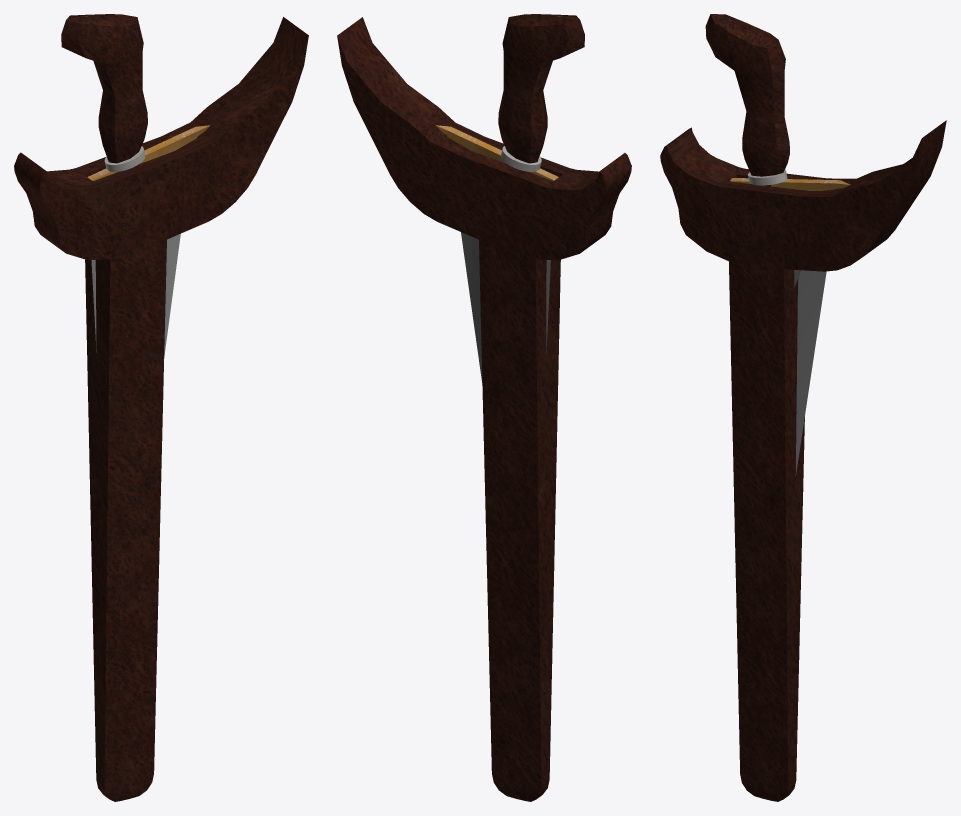
Rendered from Keris & Sarung.fbx.
3 views of the same model, side by side, from view 1: azimuth 30°, elevation 25°; view 2: azimuth 150°, elevation 25°; view 3: azimuth 330°, elevation 25° (orthographic). The views are drawn at different scales.
Parts seen in each view (by area): view 1: sarungkeris_Cube.012, keris.001; view 2: sarungkeris_Cube.012, keris.001; view 3: sarungkeris_Cube.012, keris.001.
Part boxes in pixels (x1=…): sarungkeris_Cube.012: x1=14, y1=17, x2=308, y2=801; keris.001: x1=61, y1=14, x2=210, y2=355; sarungkeris_Cube.012: x1=337, y1=17, x2=631, y2=801; keris.001: x1=436, y1=14, x2=584, y2=382; sarungkeris_Cube.012: x1=660, y1=120, x2=946, y2=801; keris.001: x1=705, y1=14, x2=850, y2=476.
Bounding box in the file's own units: 79.15 × 223 × 13.06.
